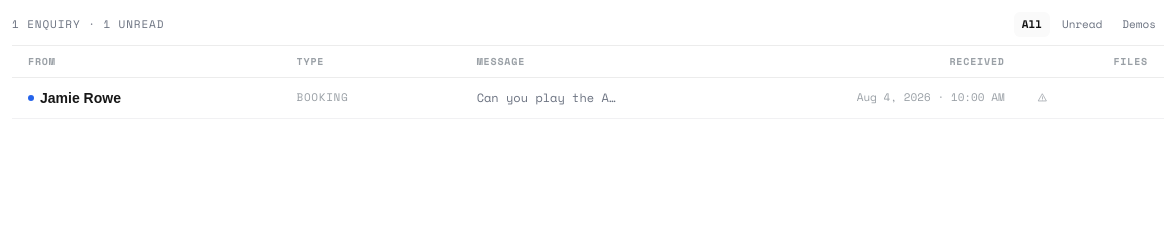
EnquiryTable — delivery state › distinguishes a failed send from an unconfigured one — different fixes
Click the text "Jamie Rowe". click: (80, 98)
box: 40,88 -> 121,108
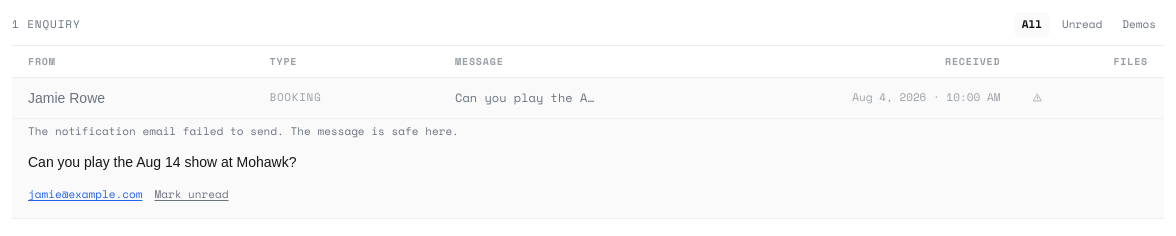
Now the text "failed to send" is shown, box 28,122 -> 459,138
